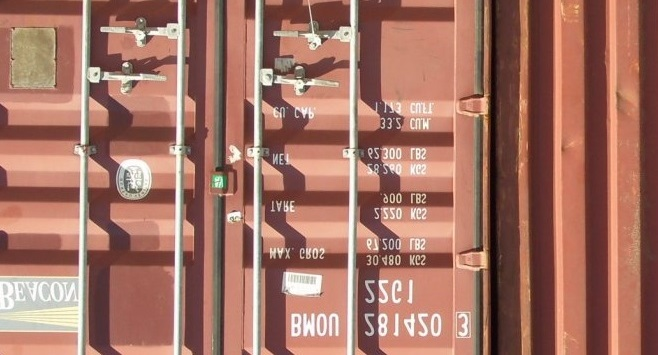container_door: (7, 2, 489, 355)
